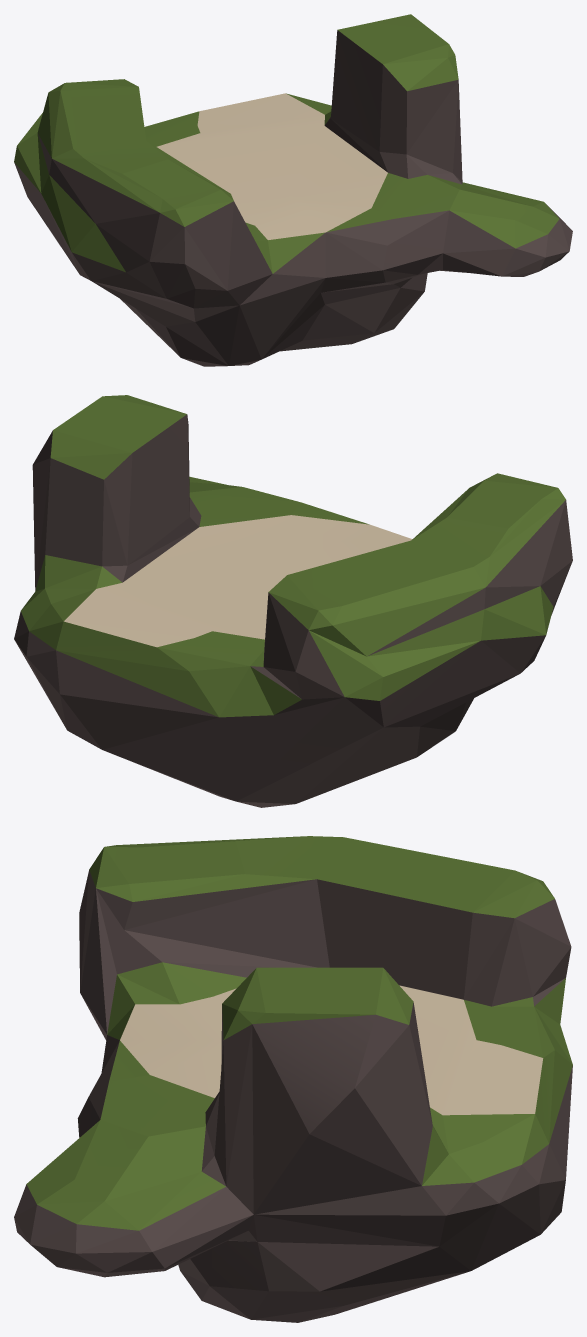
File: DarkRockFloorSmallFloatingIsland1.fbx
The picture shows the model from 3 angles, top to bottom: view 1: azimuth 30°, elevation 25°; view 2: azimuth 150°, elevation 25°; view 3: azimuth 270°, elevation 25°; orthographic projection. The views are drawn at different scales.
Visible parts, largest first — view 1: DarkSoil, LightVegetation, Gravel; view 2: DarkSoil, LightVegetation, Gravel; view 3: DarkSoil, LightVegetation, Gravel.
Boxes of the visible parts, x1,y1,x2,y2 form: DarkSoil: (14,30,572,366); LightVegetation: (14,14,559,273); Gravel: (157,93,387,239); DarkSoil: (14,414,572,807); LightVegetation: (21,395,565,717); Gravel: (64,515,412,647); DarkSoil: (14,870,572,1322); LightVegetation: (26,836,572,1230); Gravel: (120,985,543,1115).
Size of the model in its own units: 15.07 by 8.97 by 12.24.
